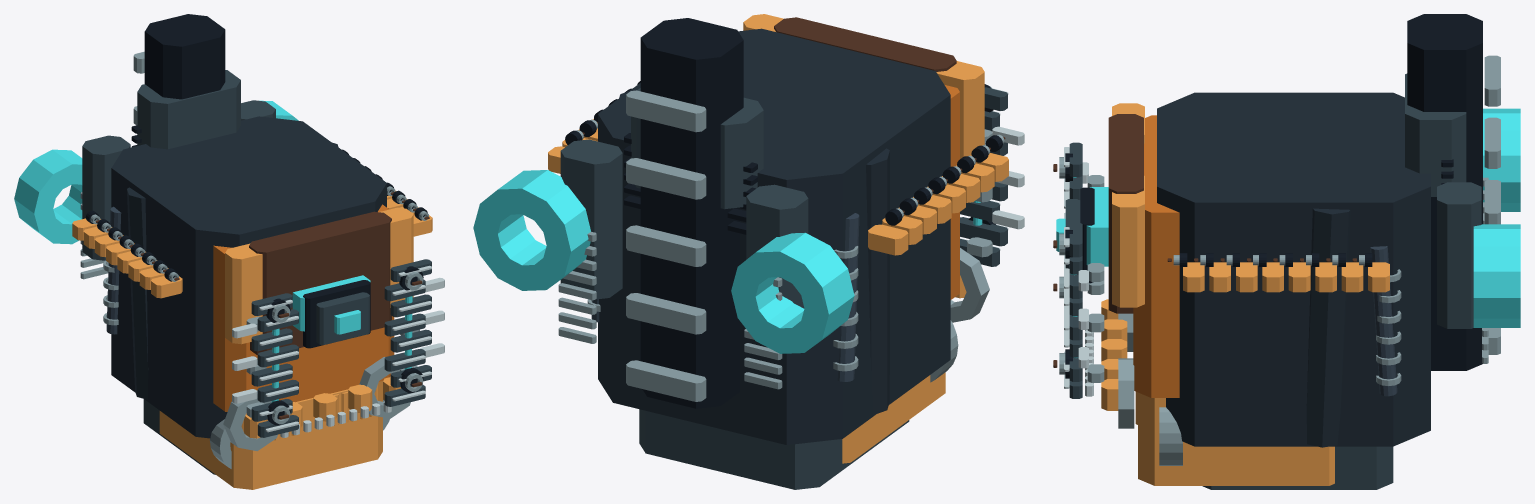
File: enemy_runner_4k_body.obj
3 renders of one model, left to right at view 1: azimuth 30°, elevation 25°; view 2: azimuth 150°, elevation 25°; view 3: azimuth 270°, elevation 25°, orthographic. The views are drawn at different scales.
Bounding box in the file's own units: 0.8 × 0.975 × 0.9895.
